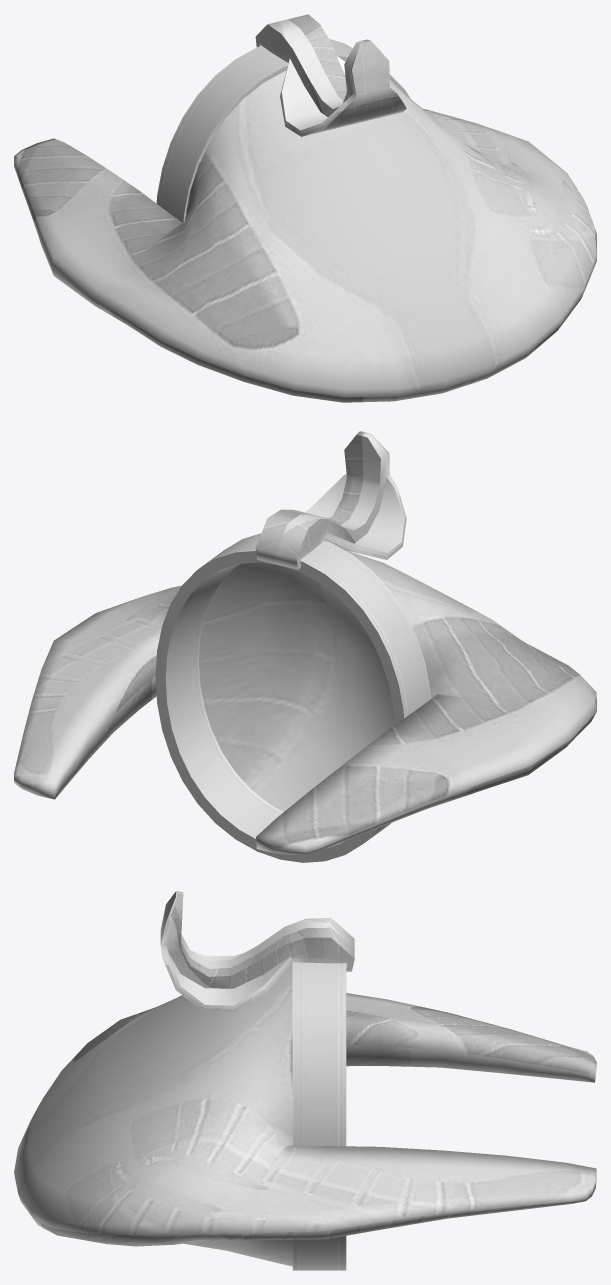
The model's file is Headwear57.glb.
3 renders of one model, top to bottom at view 1: azimuth 30°, elevation 25°; view 2: azimuth 150°, elevation 25°; view 3: azimuth 270°, elevation 25°, orthographic.
Parts seen in each view (by area): view 1: Headwear57; view 2: Headwear57; view 3: Headwear57.
Part boxes in pixels (x1,y1,x2,y2): Headwear57: [14, 14, 596, 402]; Headwear57: [14, 431, 596, 862]; Headwear57: [14, 891, 596, 1270].
Bounding box in the file's own units: 3.39 × 2.47 × 3.58.
1 material, 1 textured.
